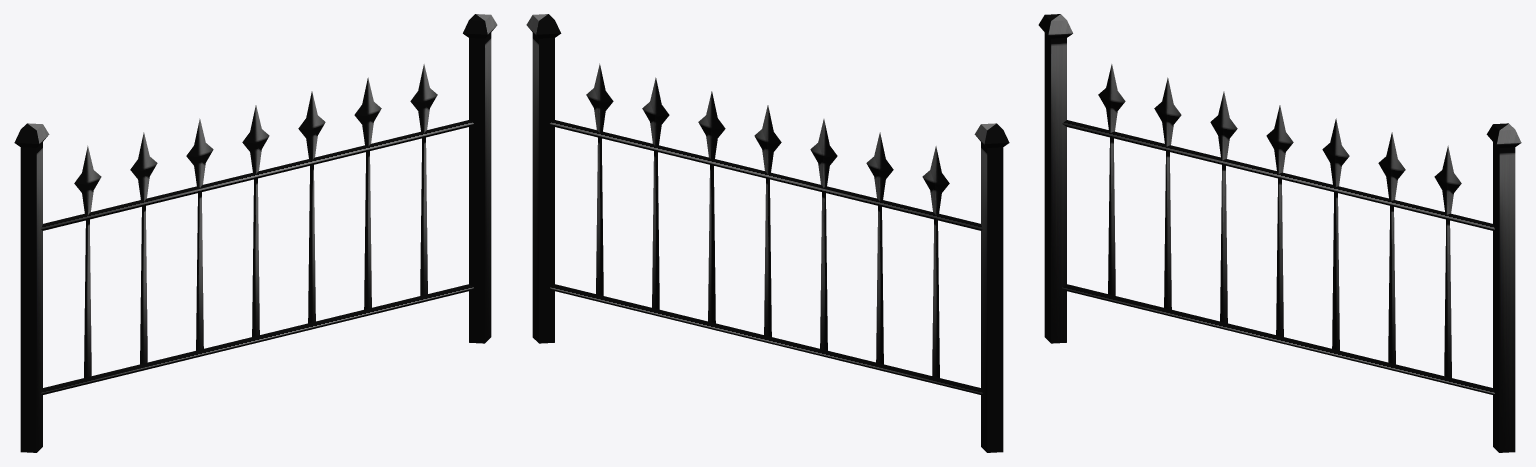
Rendered from fence.fbx.
3 views of the same model, side by side, from view 1: azimuth 30°, elevation 25°; view 2: azimuth 150°, elevation 25°; view 3: azimuth 330°, elevation 25° (orthographic).
Parts seen in each view (by area): view 1: Empty_Mesh; view 2: Empty_Mesh; view 3: Empty_Mesh.
Part boxes in pixels (left/top/right/bottom): Empty_Mesh: left=14, top=14, right=497, bottom=452; Empty_Mesh: left=526, top=14, right=1009, bottom=452; Empty_Mesh: left=1038, top=14, right=1521, bottom=452.
Size of the model in its own units: 172 by 110 by 9.36.
